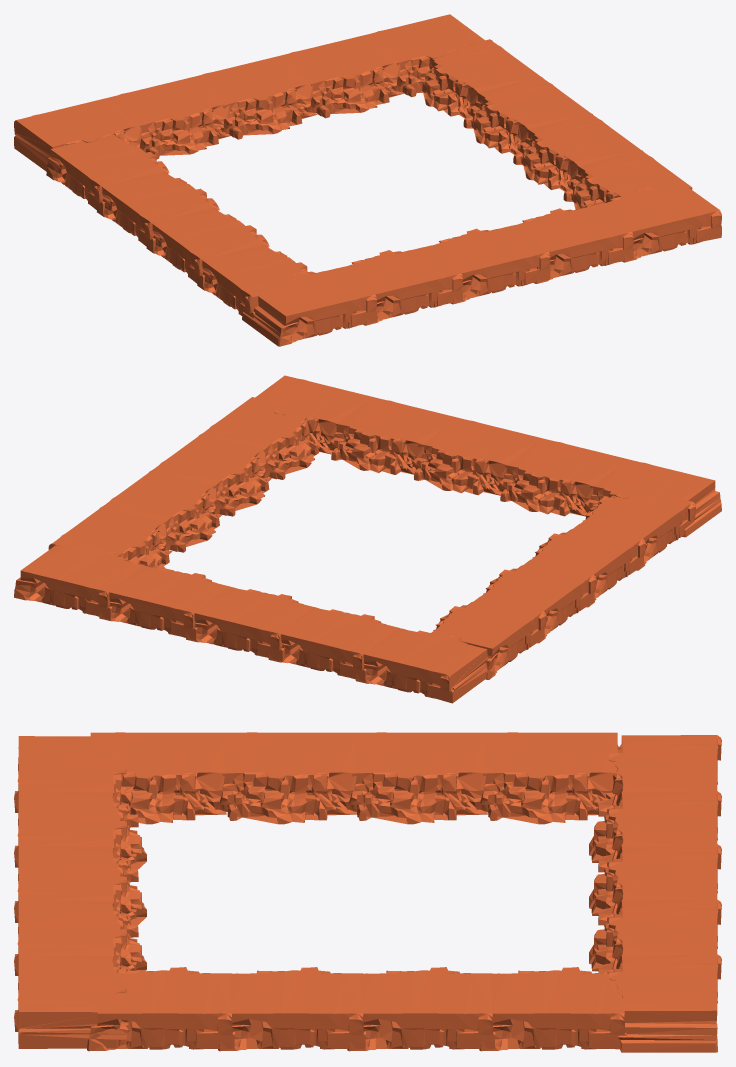
File: genisdag.fbx
The picture shows the model from 3 angles, top to bottom: view 1: azimuth 30°, elevation 25°; view 2: azimuth 150°, elevation 25°; view 3: azimuth 270°, elevation 25°; orthographic projection. The views are drawn at different scales.
Visible parts, largest first — view 1: Cube.021; view 2: Cube.021; view 3: Cube.021.
Part boxes in pixels (bbox=[...]): Cube.021: bbox=[14, 14, 721, 346]; Cube.021: bbox=[14, 375, 721, 703]; Cube.021: bbox=[14, 732, 721, 1052].
Size of the model in its own units: 159 by 9.92 by 167.
